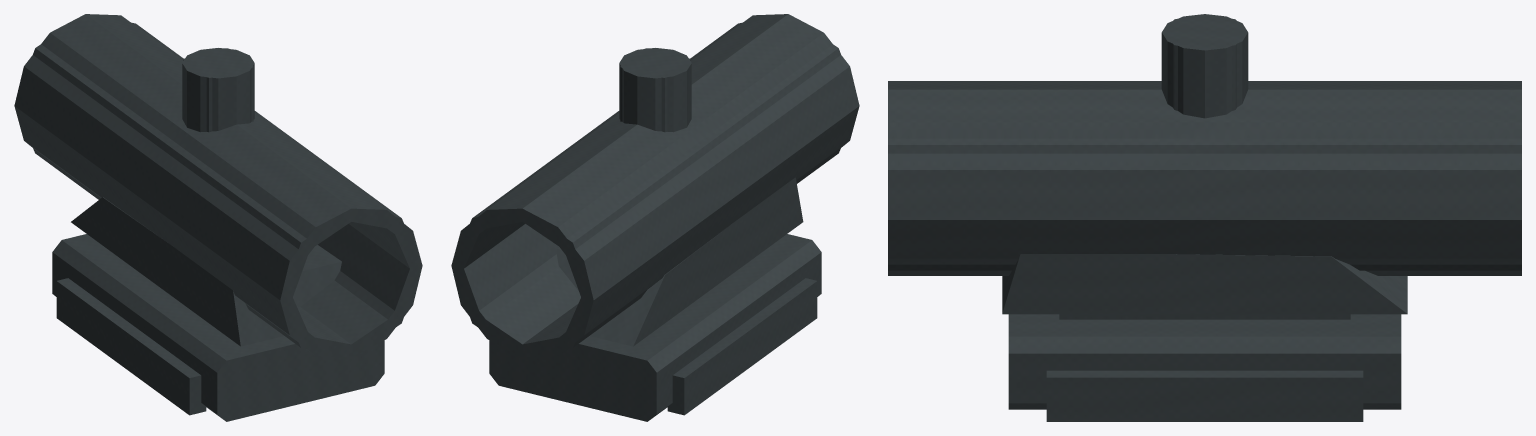
File: scope3_compact.glb
3 renders of one model, left to right at view 1: azimuth 30°, elevation 25°; view 2: azimuth 150°, elevation 25°; view 3: azimuth 270°, elevation 25°, orthographic. The views are drawn at different scales.
Visible parts, largest first — view 1: scope3_compact_foot, scope3_compact_foot.001; view 2: scope3_compact_foot, scope3_compact_foot.001; view 3: scope3_compact_foot, scope3_compact_foot.001.
Boxes of the visible parts, bbox=[...] form: scope3_compact_foot: bbox=[14, 14, 422, 421]; scope3_compact_foot.001: bbox=[33, 22, 421, 356]; scope3_compact_foot: bbox=[451, 14, 859, 421]; scope3_compact_foot.001: bbox=[452, 22, 840, 356]; scope3_compact_foot: bbox=[888, 14, 1521, 421]; scope3_compact_foot.001: bbox=[888, 14, 1521, 314].
Bounding box in the file's own units: 0.0912 × 0.128 × 0.22.
1 material, 1 textured.
